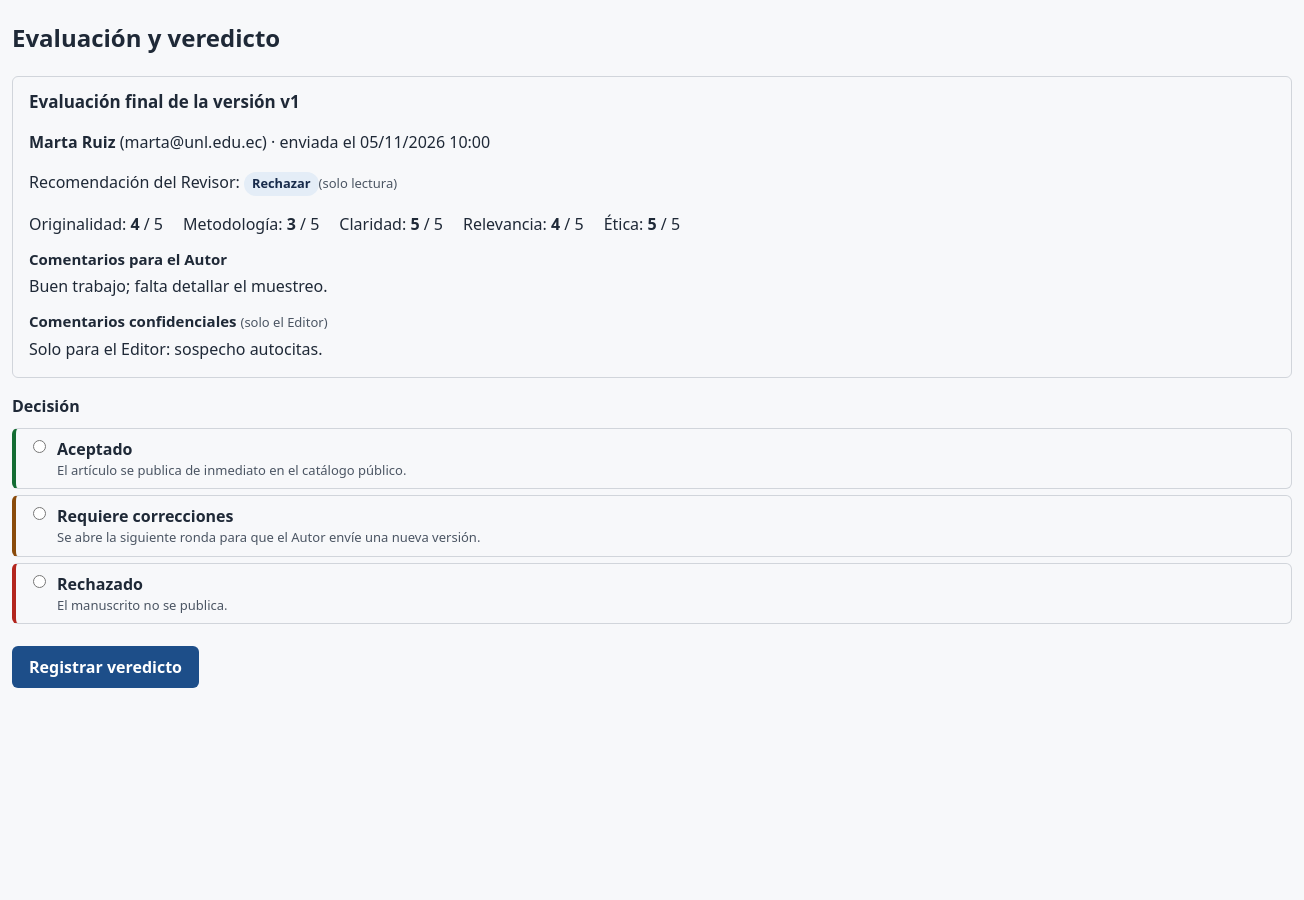
Test case: VerdictFormComponent › validación › rechazar exige la justificación
Click the radio button labelled "Rechazado El manuscrito no se publica." at (40, 581), box left=33, top=574, right=46, bottom=588
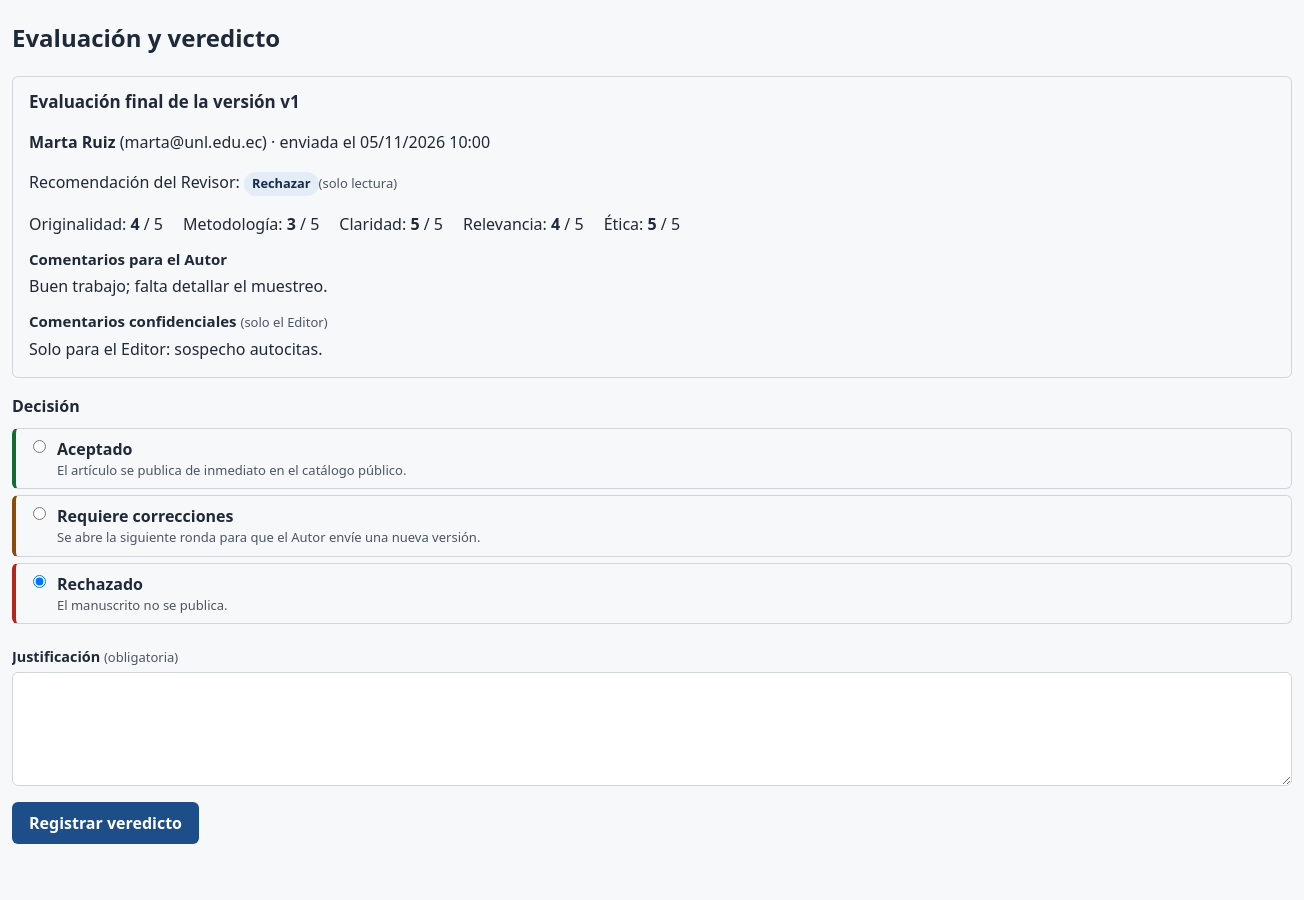
Check: the text box named "justification" is shown, box left=12, top=672, right=1292, bottom=786
Click the submit button at (106, 823), box left=12, top=802, right=199, bottom=844
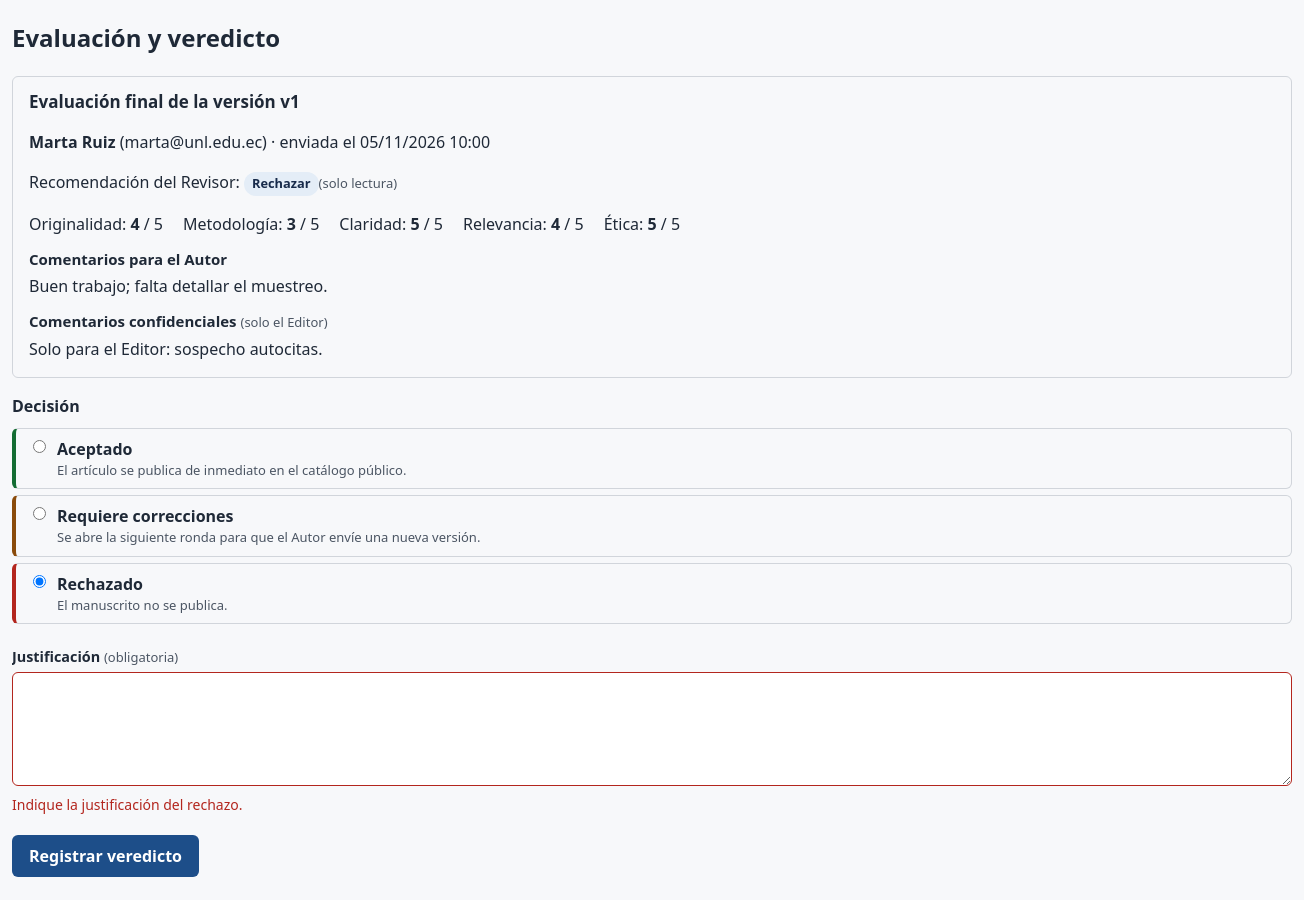
Check: the message "Indique la justificación del rechazo." is shown, box left=12, top=795, right=242, bottom=814
